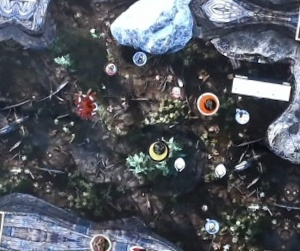giant_red_octopus: (67, 89, 101, 121)
lime_green_violet: (143, 136, 169, 162)
orange: (195, 90, 221, 116)
